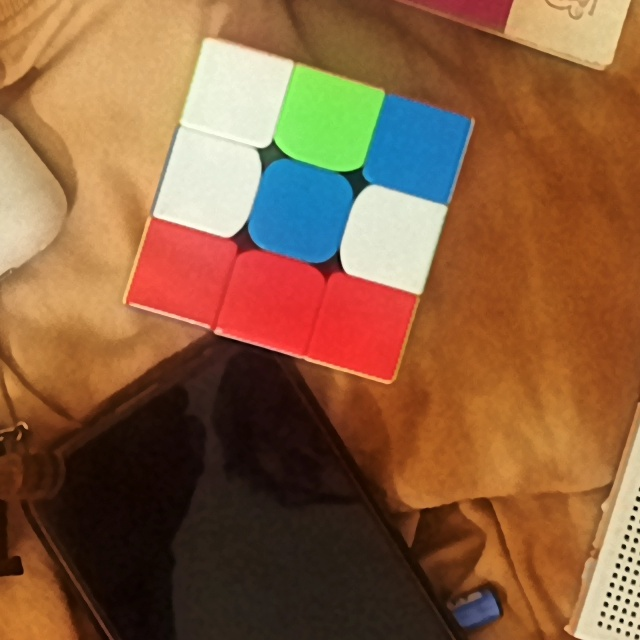tile: (290, 89, 365, 156), (263, 179, 338, 245), (171, 153, 243, 220), (328, 295, 399, 362), (381, 117, 452, 183), (200, 61, 271, 126), (142, 242, 218, 302), (233, 276, 309, 336), (354, 209, 425, 268)
